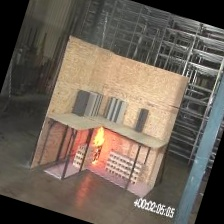fire: (81, 118, 123, 159)
